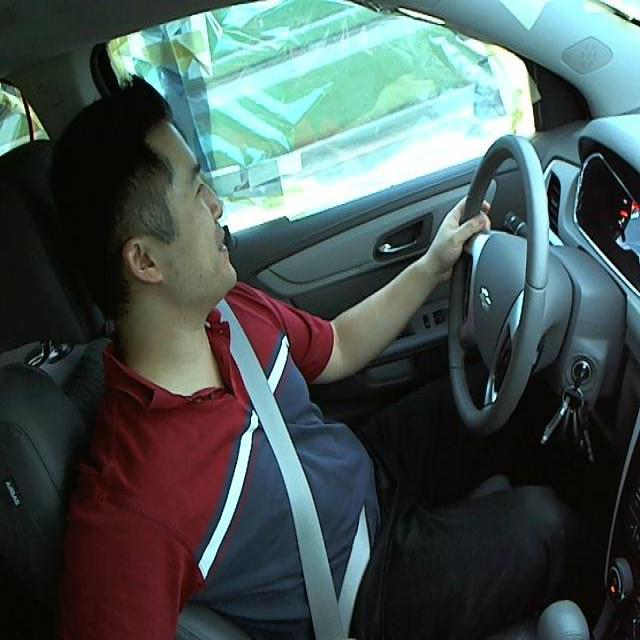seatbelt: (210, 320, 376, 631)
